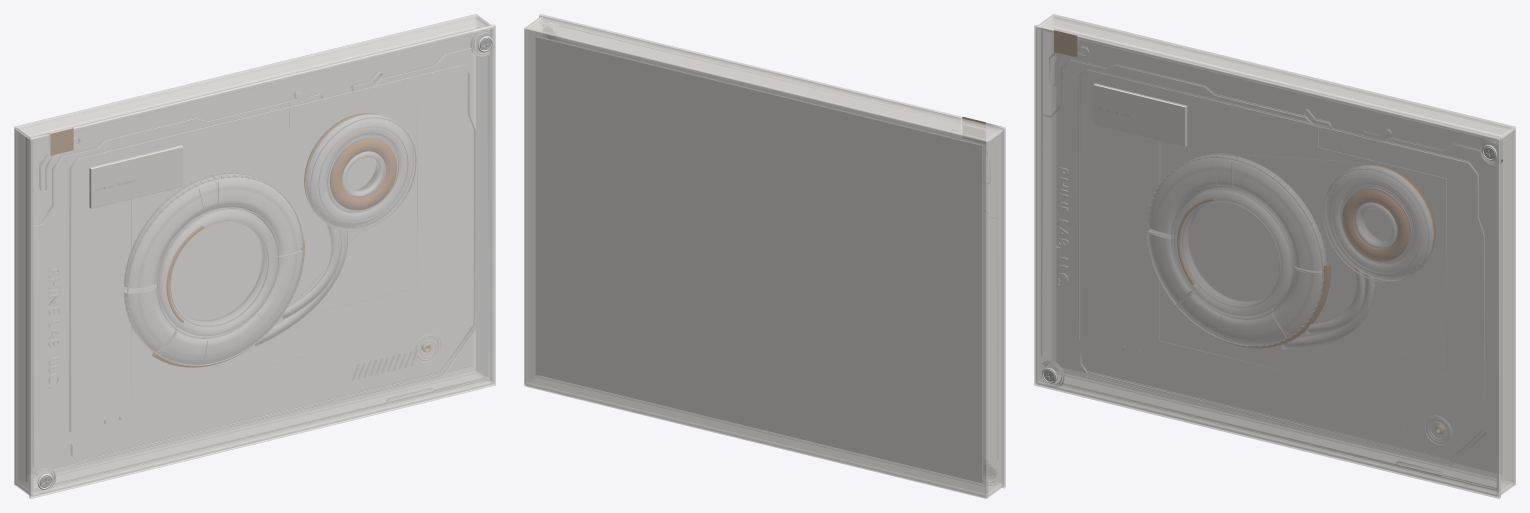
Rendered from archive-assembly.draco.glb.
3 renders of one model, left to right at view 1: azimuth 30°, elevation 25°; view 2: azimuth 150°, elevation 25°; view 3: azimuth 330°, elevation 25°, orthographic.
Parts seen in each view (by area): view 1: cover__Frosted_Polymer.012, substrate__Optical_Diffuser.012, carrier__Ivory_Edges.012, optical-lenses__Optical_Edges.003, optical-core__Subsurface_Optics.003, carrier__Optical_Edges.012; view 2: carrier__Ivory_Edges.012, substrate__Optical_Diffuser.012, cover__Frosted_Polymer.012, carrier__Optical_Edges.012; view 3: cover__Frosted_Polymer.012, substrate__Optical_Diffuser.012, carrier__Ivory_Edges.012, optical-lenses__Optical_Edges.003, optical-core__Subsurface_Optics.003, carrier__Optical_Edges.012.
Boxes of the visible parts, left/top/right/bottom form: cover__Frosted_Polymer.012: left=29, top=24, right=495, bottom=498; substrate__Optical_Diffuser.012: left=27, top=29, right=492, bottom=493; carrier__Ivory_Edges.012: left=14, top=14, right=493, bottom=496; optical-lenses__Optical_Edges.003: left=126, top=114, right=413, bottom=364; optical-core__Subsurface_Optics.003: left=37, top=36, right=492, bottom=489; carrier__Optical_Edges.012: left=26, top=26, right=477, bottom=481; carrier__Ivory_Edges.012: left=524, top=16, right=1003, bottom=498; substrate__Optical_Diffuser.012: left=536, top=21, right=998, bottom=485; cover__Frosted_Polymer.012: left=539, top=14, right=1005, bottom=488; carrier__Optical_Edges.012: left=536, top=33, right=985, bottom=486; cover__Frosted_Polymer.012: left=1034, top=24, right=1500, bottom=498; substrate__Optical_Diffuser.012: left=1041, top=29, right=1502, bottom=490; carrier__Ivory_Edges.012: left=1036, top=14, right=1515, bottom=496; optical-lenses__Optical_Edges.003: left=1148, top=156, right=1433, bottom=345; optical-core__Subsurface_Optics.003: left=1042, top=145, right=1497, bottom=433; carrier__Optical_Edges.012: left=1052, top=26, right=1503, bottom=481.
Size of the model in its own units: 5.01 by 3.7 by 0.3765.
6 materials, 6 textured.
